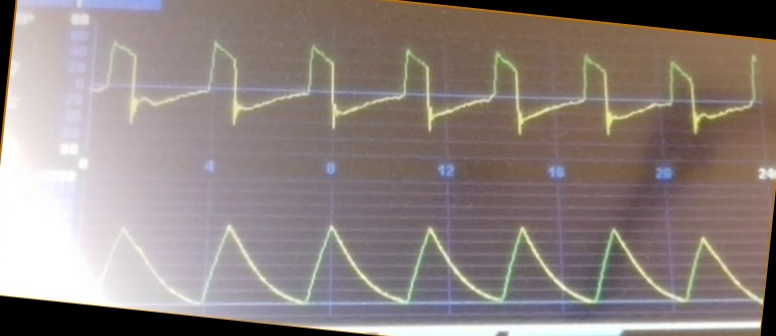Premature_cycling Flow: (95, 36, 757, 147)
Premature_cycling Volume: (89, 219, 762, 308)
